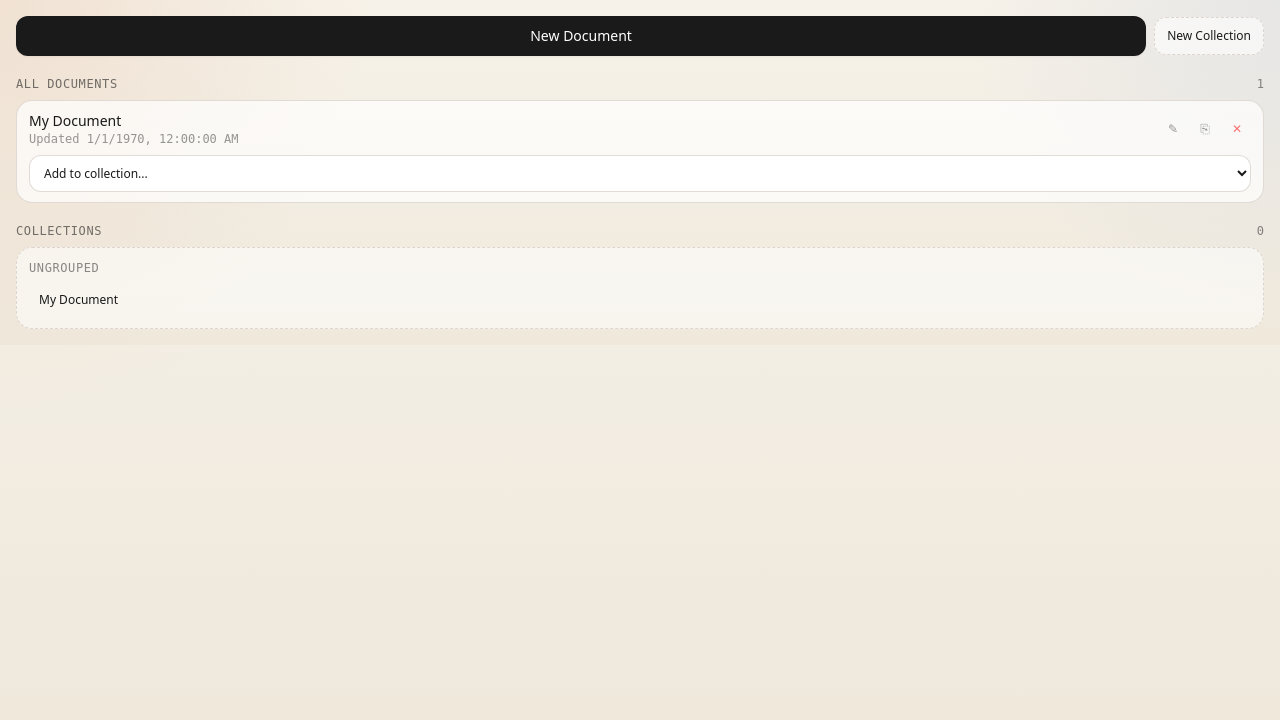
Test case: DocumentHubSidebar delete confirmation gate (#110) › leaves the document and its annotations untouched when cancelled
Click the button named "Delete document" at {"x": 1237, "y": 129}, box [1223,115,1251,143]
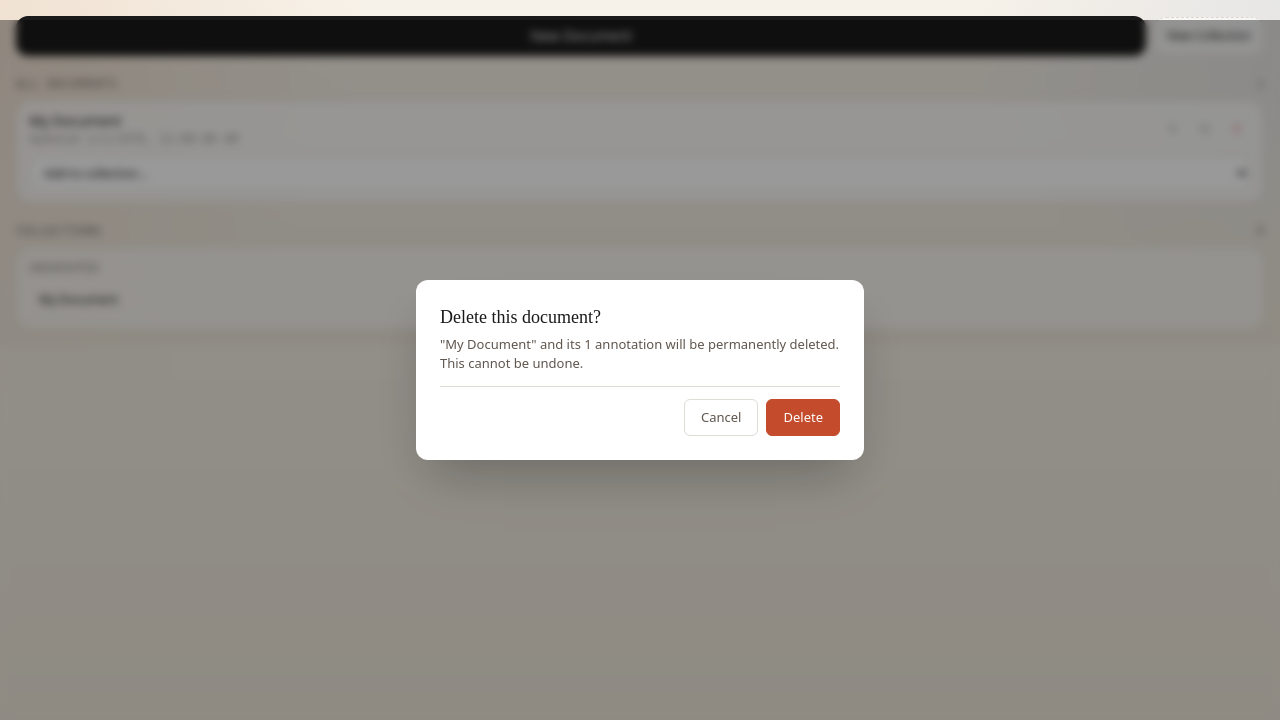
Click the button "Cancel" at {"x": 721, "y": 418}, box [684,399,758,436]
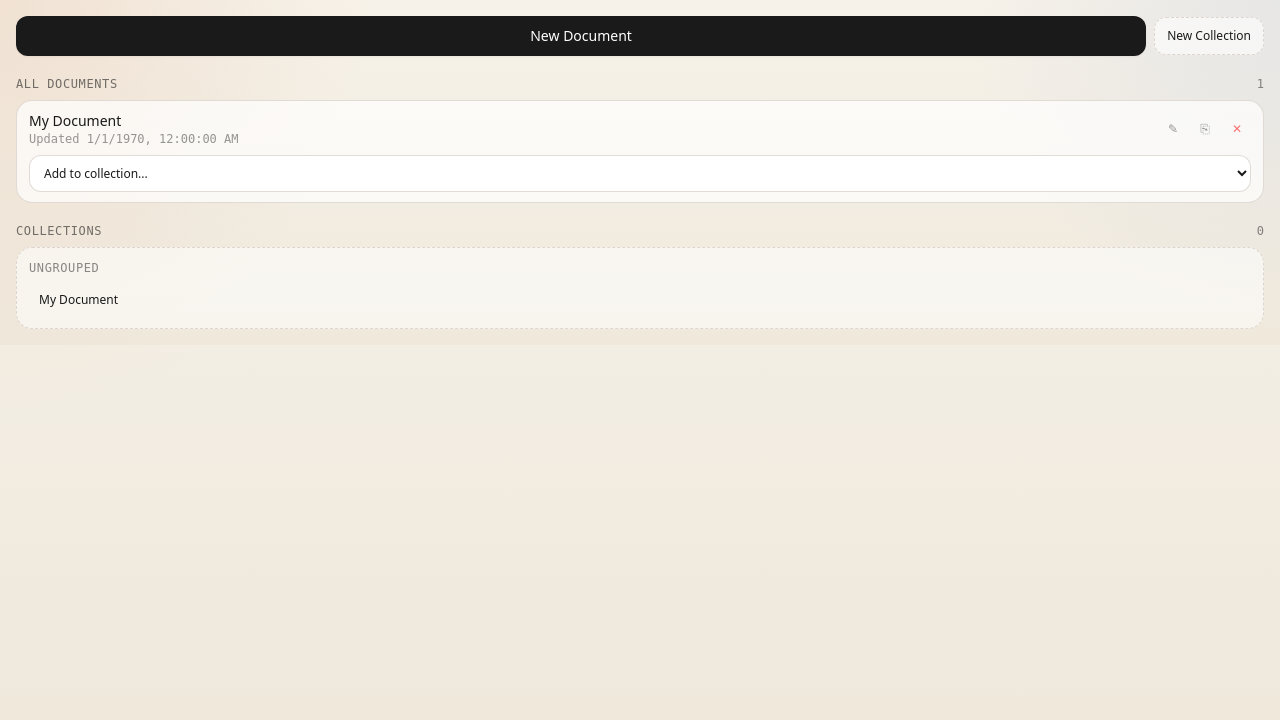
Check: the heading "Delete this document?" is gone
